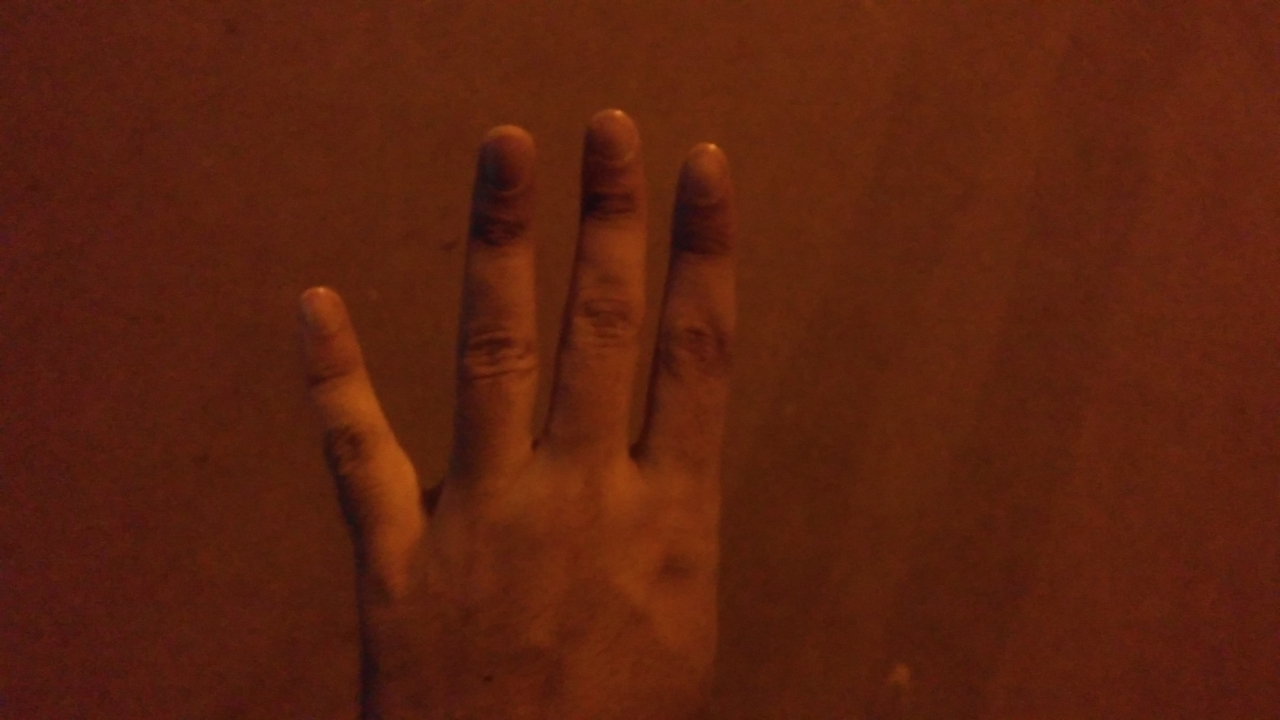fingertip: (472, 122, 536, 182), (674, 134, 736, 190), (290, 276, 350, 332), (584, 102, 642, 152)
